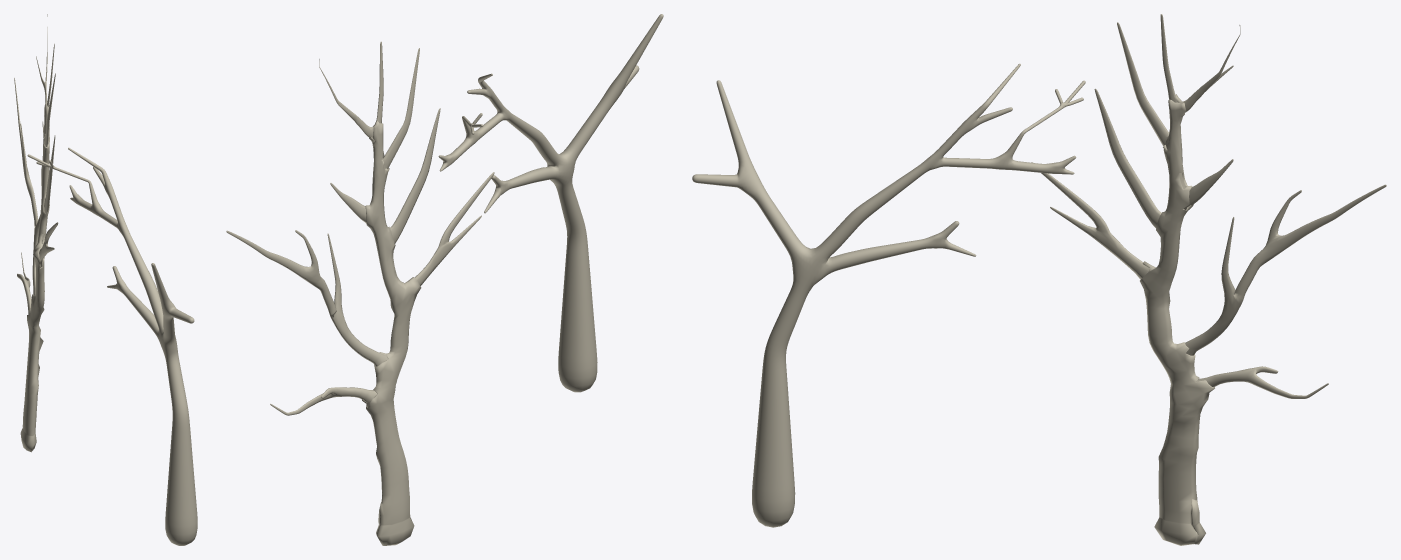
Rendered from Dead wood.glb.
The picture shows the model from 3 angles, left to right: view 1: azimuth 30°, elevation 25°; view 2: azimuth 150°, elevation 25°; view 3: azimuth 270°, elevation 25°; orthographic projection. The views are drawn at different scales.
Parts seen in each view (by area): view 1: Plane, BezierCurve.001, BezierCurve.010; view 2: Plane, BezierCurve.001, BezierCurve.010; view 3: Plane, BezierCurve.001, BezierCurve.010.
Boxes of the visible parts, box(x1,y1,x2,y2) form: Plane: box(27, 147, 197, 545); BezierCurve.001: box(20, 101, 49, 452); BezierCurve.010: box(14, 14, 58, 314); Plane: box(438, 14, 663, 392); BezierCurve.001: box(362, 121, 421, 545); BezierCurve.010: box(226, 41, 494, 415); Plane: box(692, 63, 1085, 527); BezierCurve.001: box(1140, 94, 1214, 545); BezierCurve.010: box(1031, 14, 1386, 534).
Bounding box in the file's own units: 2.58 × 8.98 × 10.31.
